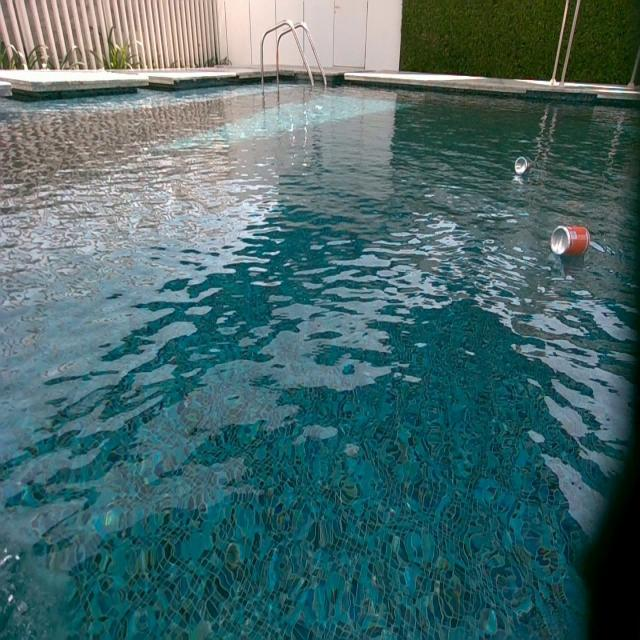Cans: (549, 226, 590, 260), (515, 157, 531, 177)
